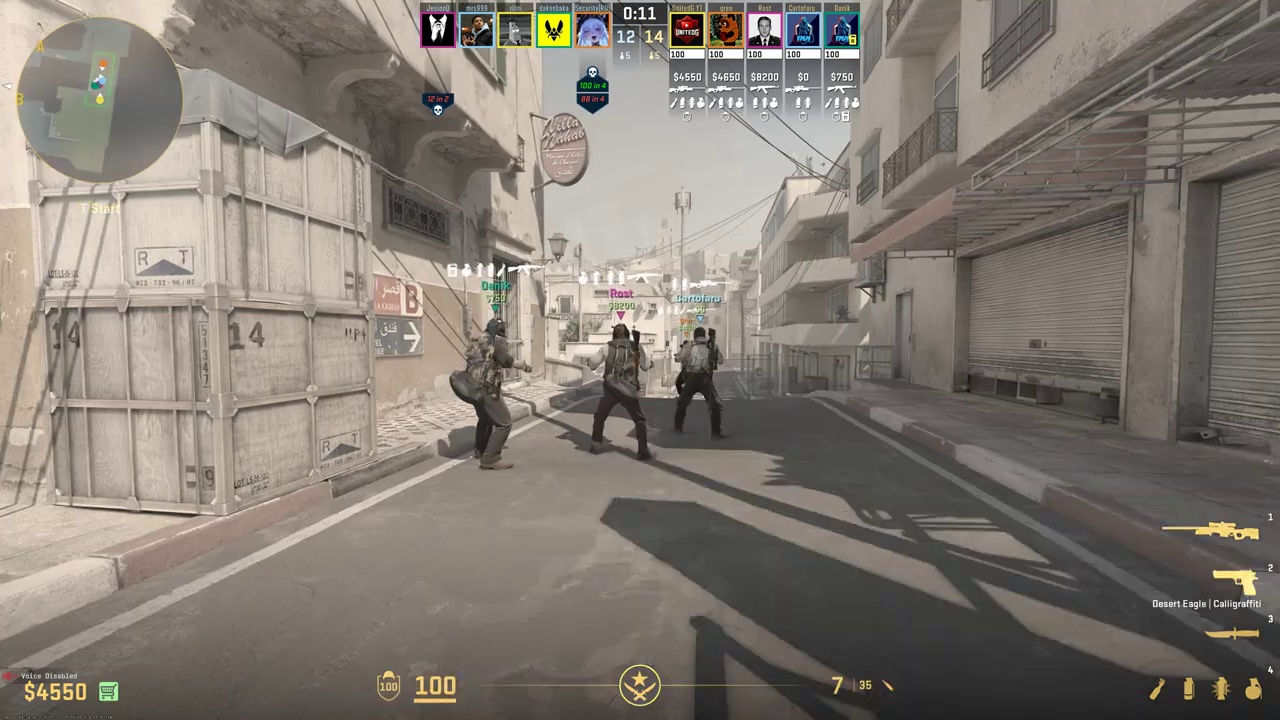Terrorist: (594, 324, 652, 458), (468, 319, 512, 470), (675, 328, 726, 440)
